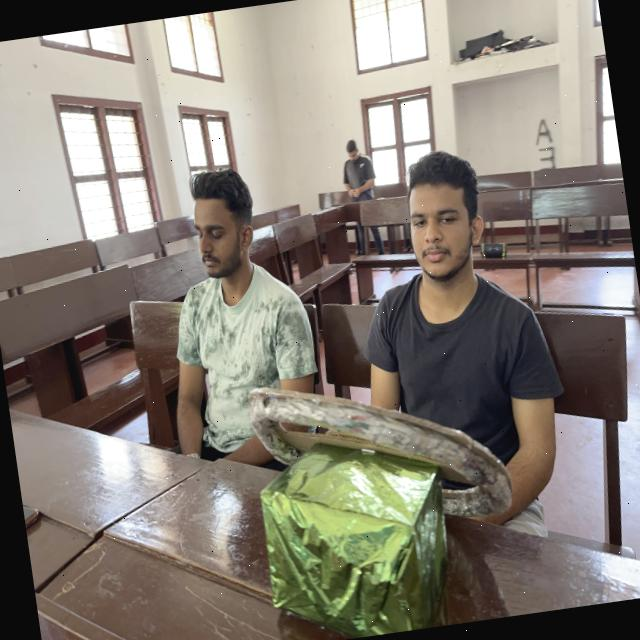Helmet: (349, 262, 580, 542), (156, 266, 332, 477)
